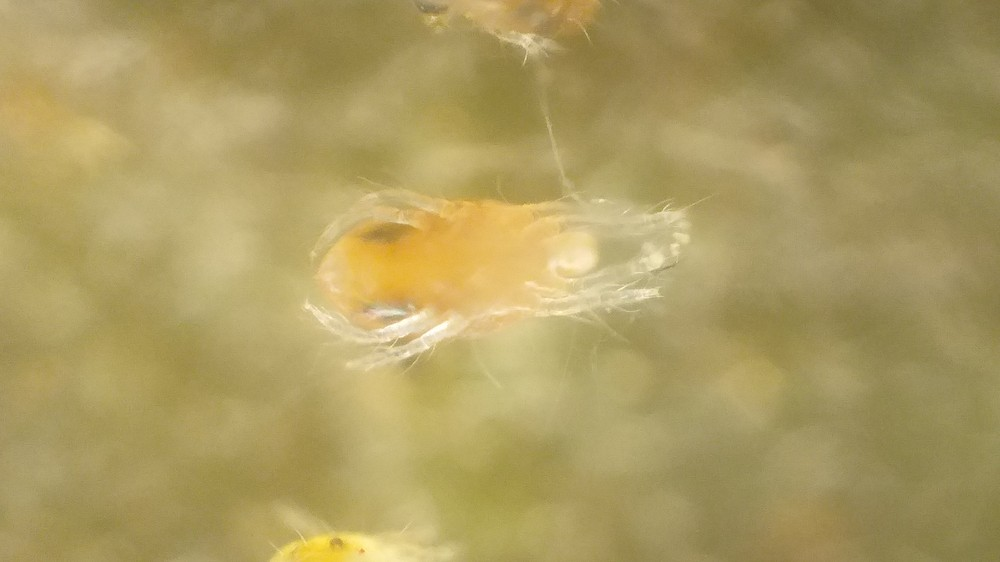Aracnido Rojo: (296, 160, 715, 384)
